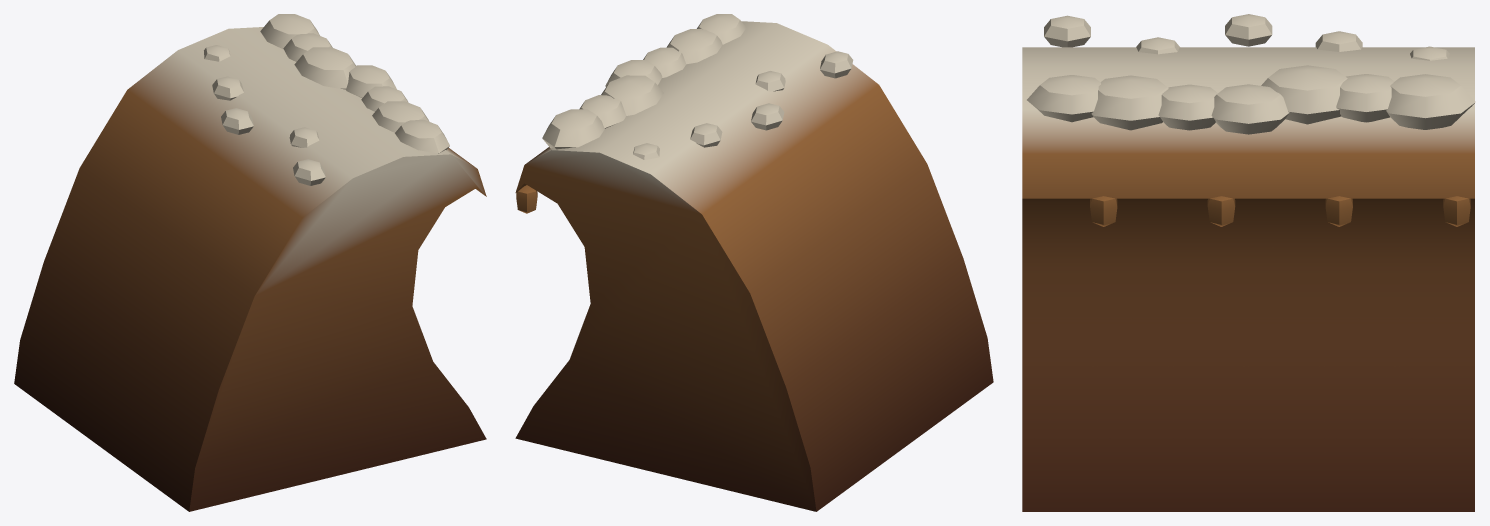
Rendered from choco_wave.glb.
3 renders of one model, left to right at view 1: azimuth 30°, elevation 25°; view 2: azimuth 150°, elevation 25°; view 3: azimuth 270°, elevation 25°, orthographic. The views are drawn at different scales.
Parts seen in each view (by area): view 1: choco_wave; view 2: choco_wave; view 3: choco_wave.
Boxes of the visible parts, x1=… form: choco_wave: x1=14, y1=14, x2=486, y2=511; choco_wave: x1=515, y1=14, x2=993, y2=511; choco_wave: x1=1022, y1=14, x2=1475, y2=511.
Bounding box in the file's own units: 1 × 1 × 1.
